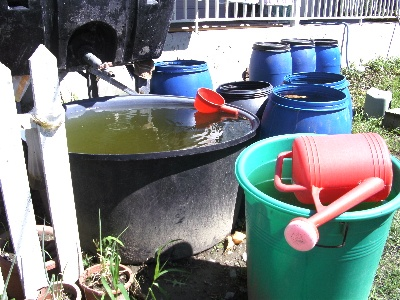bowl: (32, 89, 262, 268), (274, 131, 394, 209), (193, 86, 225, 114)
bucket: (234, 133, 400, 300), (262, 83, 353, 132), (149, 59, 215, 97), (213, 79, 272, 119), (247, 41, 295, 85), (284, 38, 318, 74), (314, 36, 343, 73)
plate: (253, 42, 291, 54), (281, 38, 316, 49), (311, 38, 339, 49)
